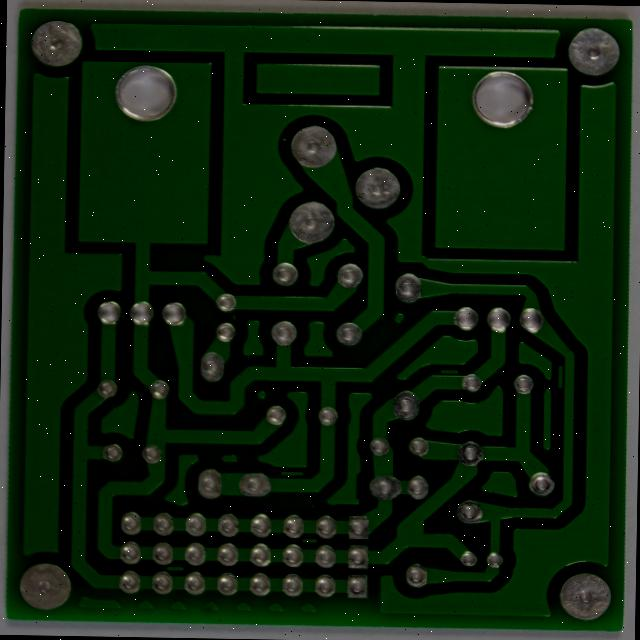spurious_copper: (540, 390, 558, 425), (412, 396, 443, 412), (236, 506, 267, 522), (258, 580, 285, 596), (108, 611, 135, 624)
